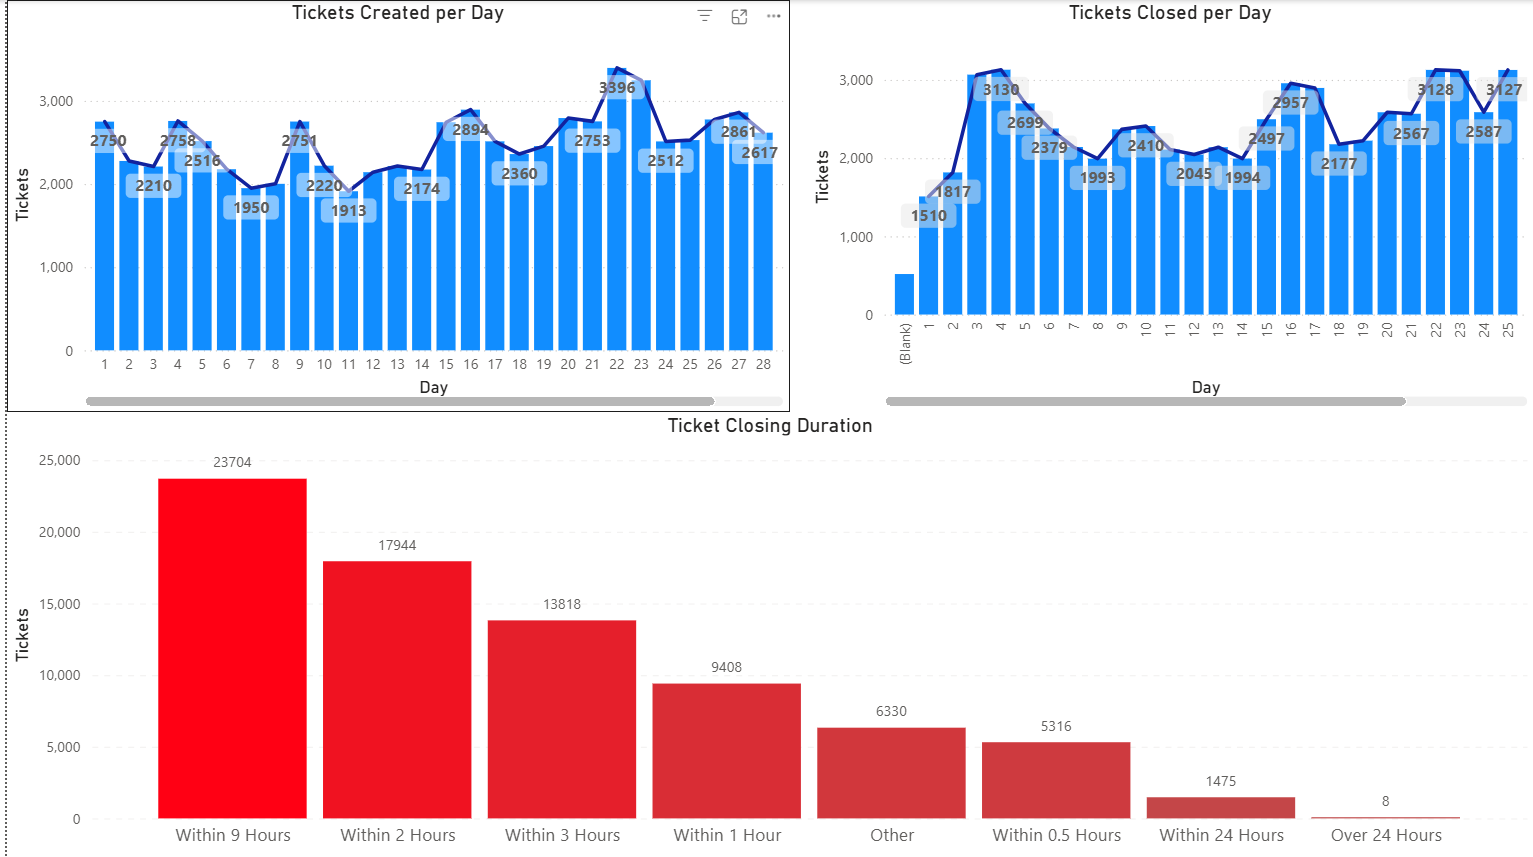

The page's visual inventory and layout, read from the dashboard file:
{"tool":"powerbi","page":{"name":"Page 3","canvas":[1280,720],"ordinal":2},"visuals":[{"type":"clusteredColumnChart","title":"Ticket Closing Duration","fields":{"Y":["CountNonNull(Sheet1.TAT)"],"Category":["Sheet1.TAT (groups)"]},"box":[0,345.8,1280.3,374.6],"z":0},{"type":"lineStackedColumnComboChart","title":"Tickets Created per Day","fields":{"Category":["Sheet1.Creation Date.Variation.Date Hierarchy.Day"],"Y":["CountNonNull(Sheet1.Ticket No.)"],"Y2":["CountNonNull(Sheet1.Creation Date)"]},"box":[0,0,655.9,345.8],"z":1000},{"type":"lineStackedColumnComboChart","title":"Tickets Closed per Day","fields":{"Category":["Sheet1.Closed At.Variation.Date Hierarchy.Day"],"Y":["CountNonNull(Sheet1.Ticket No.)"],"Y2":["CountNonNull(Sheet1.Closed At)"]},"box":[671,0,609.3,345.8],"z":2000}]}

Visuals, with their boxes in screenshot pixels (x1, y1, x2, y2), scaled from the page's 1280x720 canvas onto the 1533x857 screenshot:
"Ticket Closing Duration" clusteredColumnChart: bbox=(0, 412, 1532, 856)
"Tickets Created per Day" lineStackedColumnComboChart: bbox=(0, 0, 786, 412)
"Tickets Closed per Day" lineStackedColumnComboChart: bbox=(804, 0, 1532, 412)
